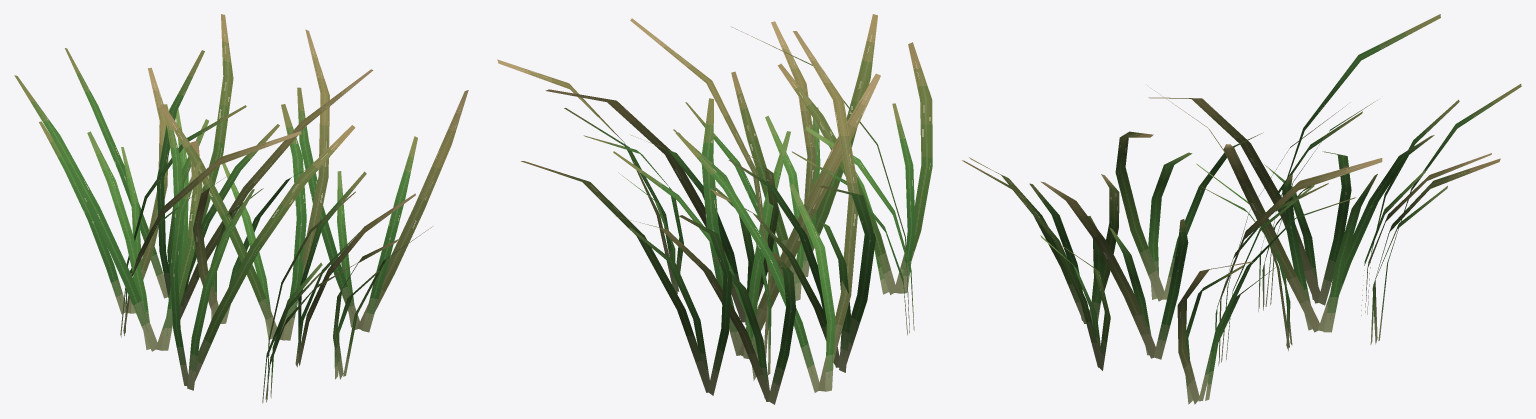
3 views of the same model, side by side, from view 1: azimuth 30°, elevation 25°; view 2: azimuth 150°, elevation 25°; view 3: azimuth 270°, elevation 25° (orthographic). The views are drawn at different scales.
Parts seen in each view (by area): view 1: seagrass; view 2: seagrass; view 3: seagrass.
Boxes of the visible parts, x1,y1,x2,y2 form: seagrass: (14,14,468,403); seagrass: (497,14,932,404); seagrass: (962,14,1521,404).
Bounding box in the file's own units: 0.6983 × 0.4437 × 0.8248.
Materials: 1 (1 with a texture image).
